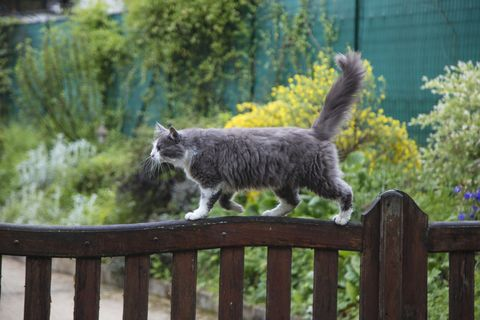cat: (150, 50, 366, 226)
